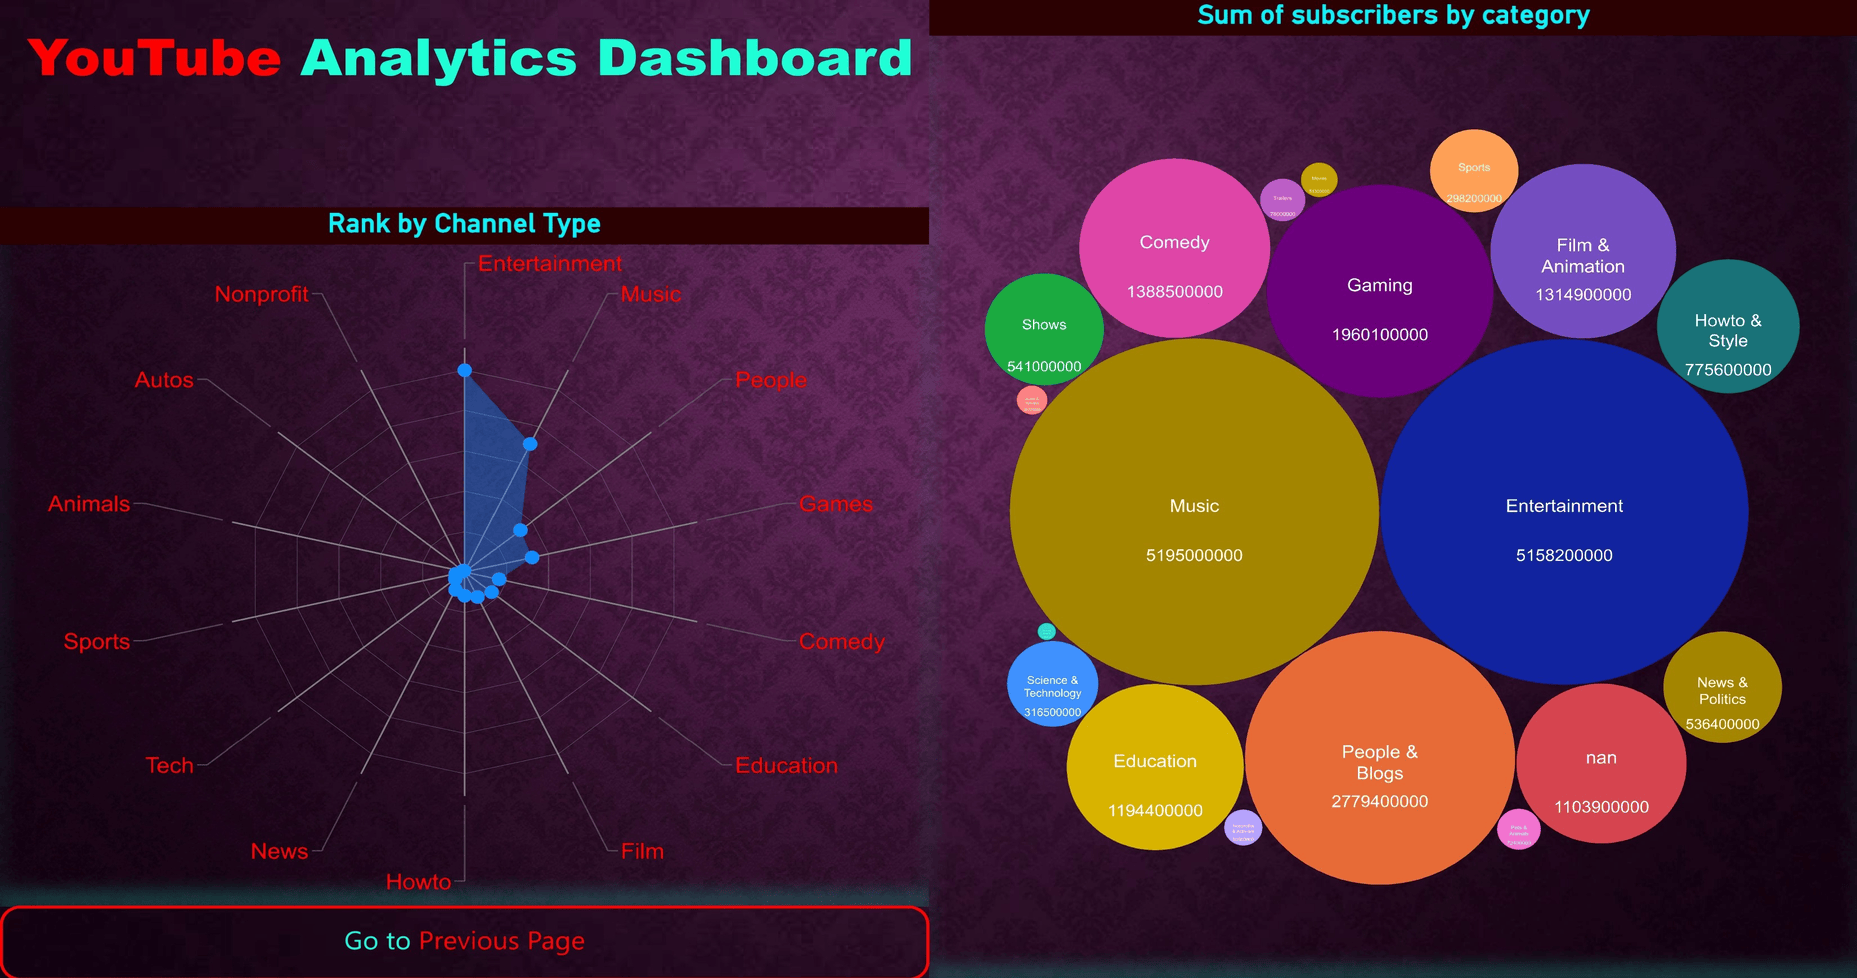

The dashboard page shown, as its layout file describes it:
{"tool":"powerbi","page":{"name":"Page 2","canvas":[1280,720],"ordinal":2},"visuals":[{"type":"RadarChart1446119667547","fields":{"Category":["Global YouTube Statistics.channel_type"],"Y":["CountNonNull(Global YouTube Statistics.channel_type_rank)"]},"box":[0,152.5,640,512.5],"z":0},{"type":"PackedBubbleChart","fields":{"measure":["Sum(Global YouTube Statistics.subscribers)"],"category":["Global YouTube Statistics.category"]},"box":[640,0,640,720],"z":1000},{"type":"textbox","box":[0,665,640,55],"z":2000},{"type":"shape","box":[0,665,640,55],"z":3000},{"type":"textbox","box":[1.2,10,638.8,76.2],"z":3001}]}

Visuals, with their boxes on the page's 1280x720 design canvas (x1, y1, x2, y2). These are canvas units, not pixel positions in the 1857x978 screenshot, which may show the page scaled, cropped or inside an application window:
RadarChart1446119667547 - Global YouTube Statistics.channel_type x CountNonNull(Global YouTube Statistics.channel_type_rank): (0, 152, 640, 665)
PackedBubbleChart - Sum(Global YouTube Statistics.subscribers) x Global YouTube Statistics.category: (640, 0, 1280, 720)
textbox: (0, 665, 640, 720)
shape: (0, 665, 640, 720)
textbox: (1, 10, 640, 86)
